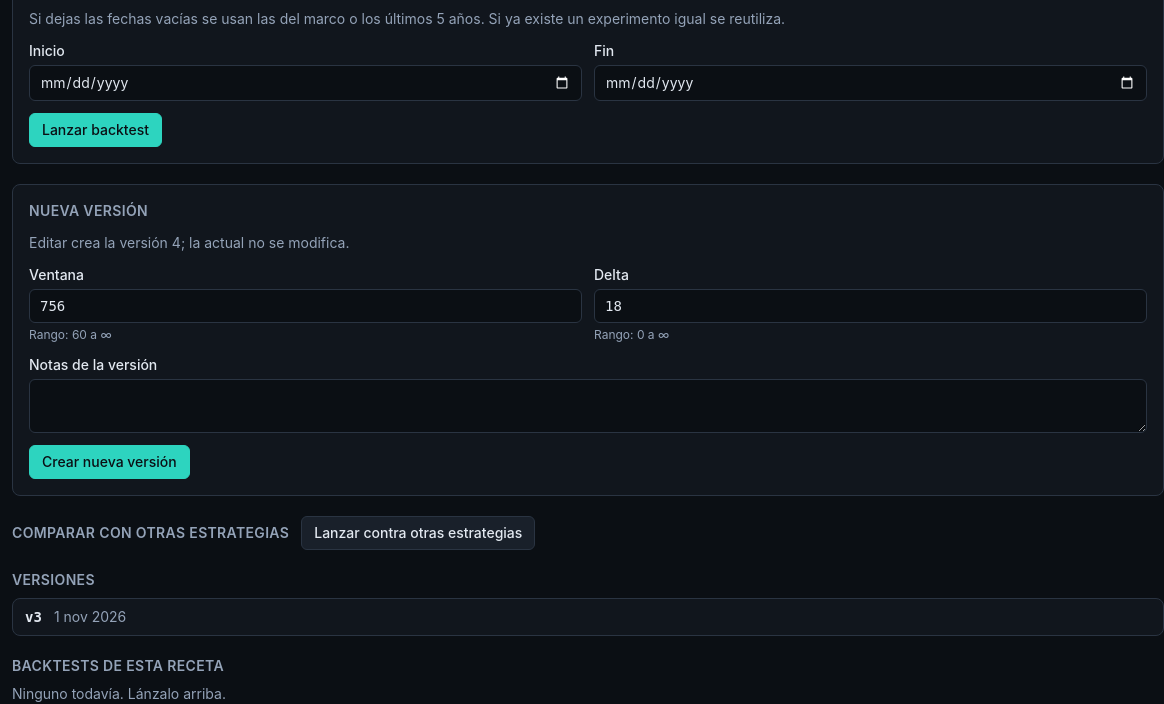
Test: Lanzar contra otras estrategias › abre el panel con las fechas sugeridas y la propia estrategia marcada sin pedir los comunes
This screenshot has width=1164, height=704.
(page scrolled)
Click the button "Lanzar contra otras estrategias" at coordinates (418, 533), box x1=301 y1=516 x2=535 y2=550
(page scrolled)
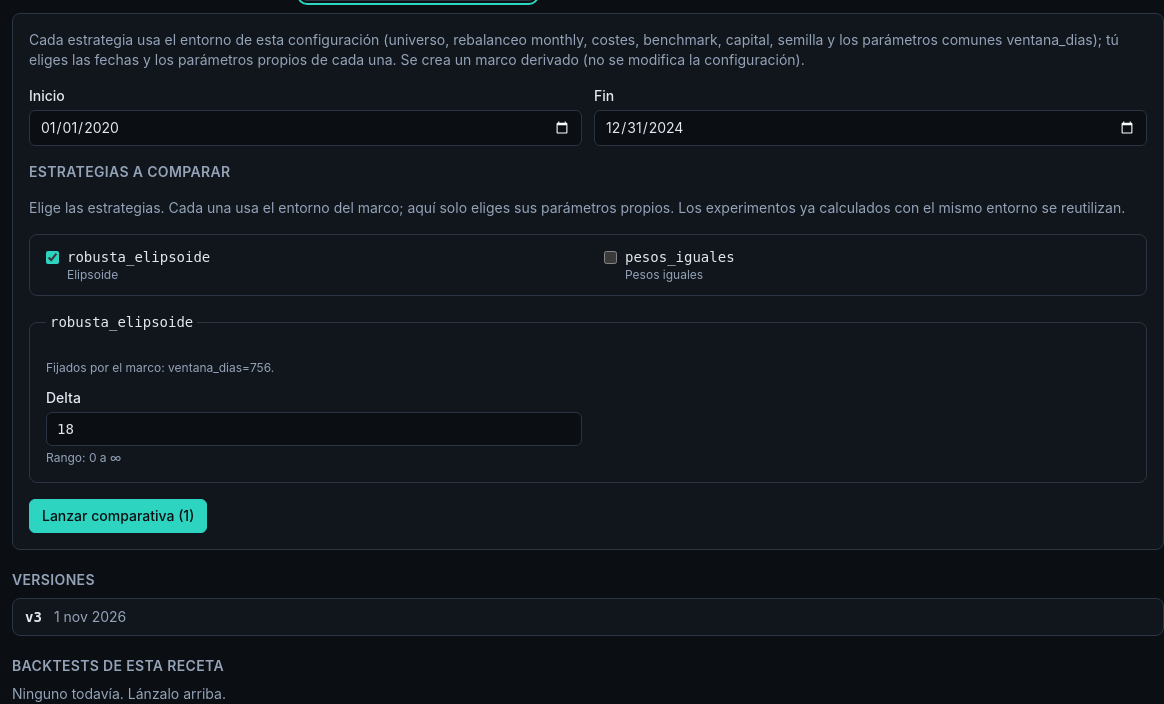
Expected: the date field labelled "Inicio" holds "2020-01-01", x1=29 y1=110 x2=582 y2=146
Expected: the date field labelled "Fin" holds "2024-12-31", x1=594 y1=110 x2=1147 y2=146
Expected: the checkbox labelled "robusta_elipsoide Elipsoide" is checked, x1=46 y1=251 x2=59 y2=264
